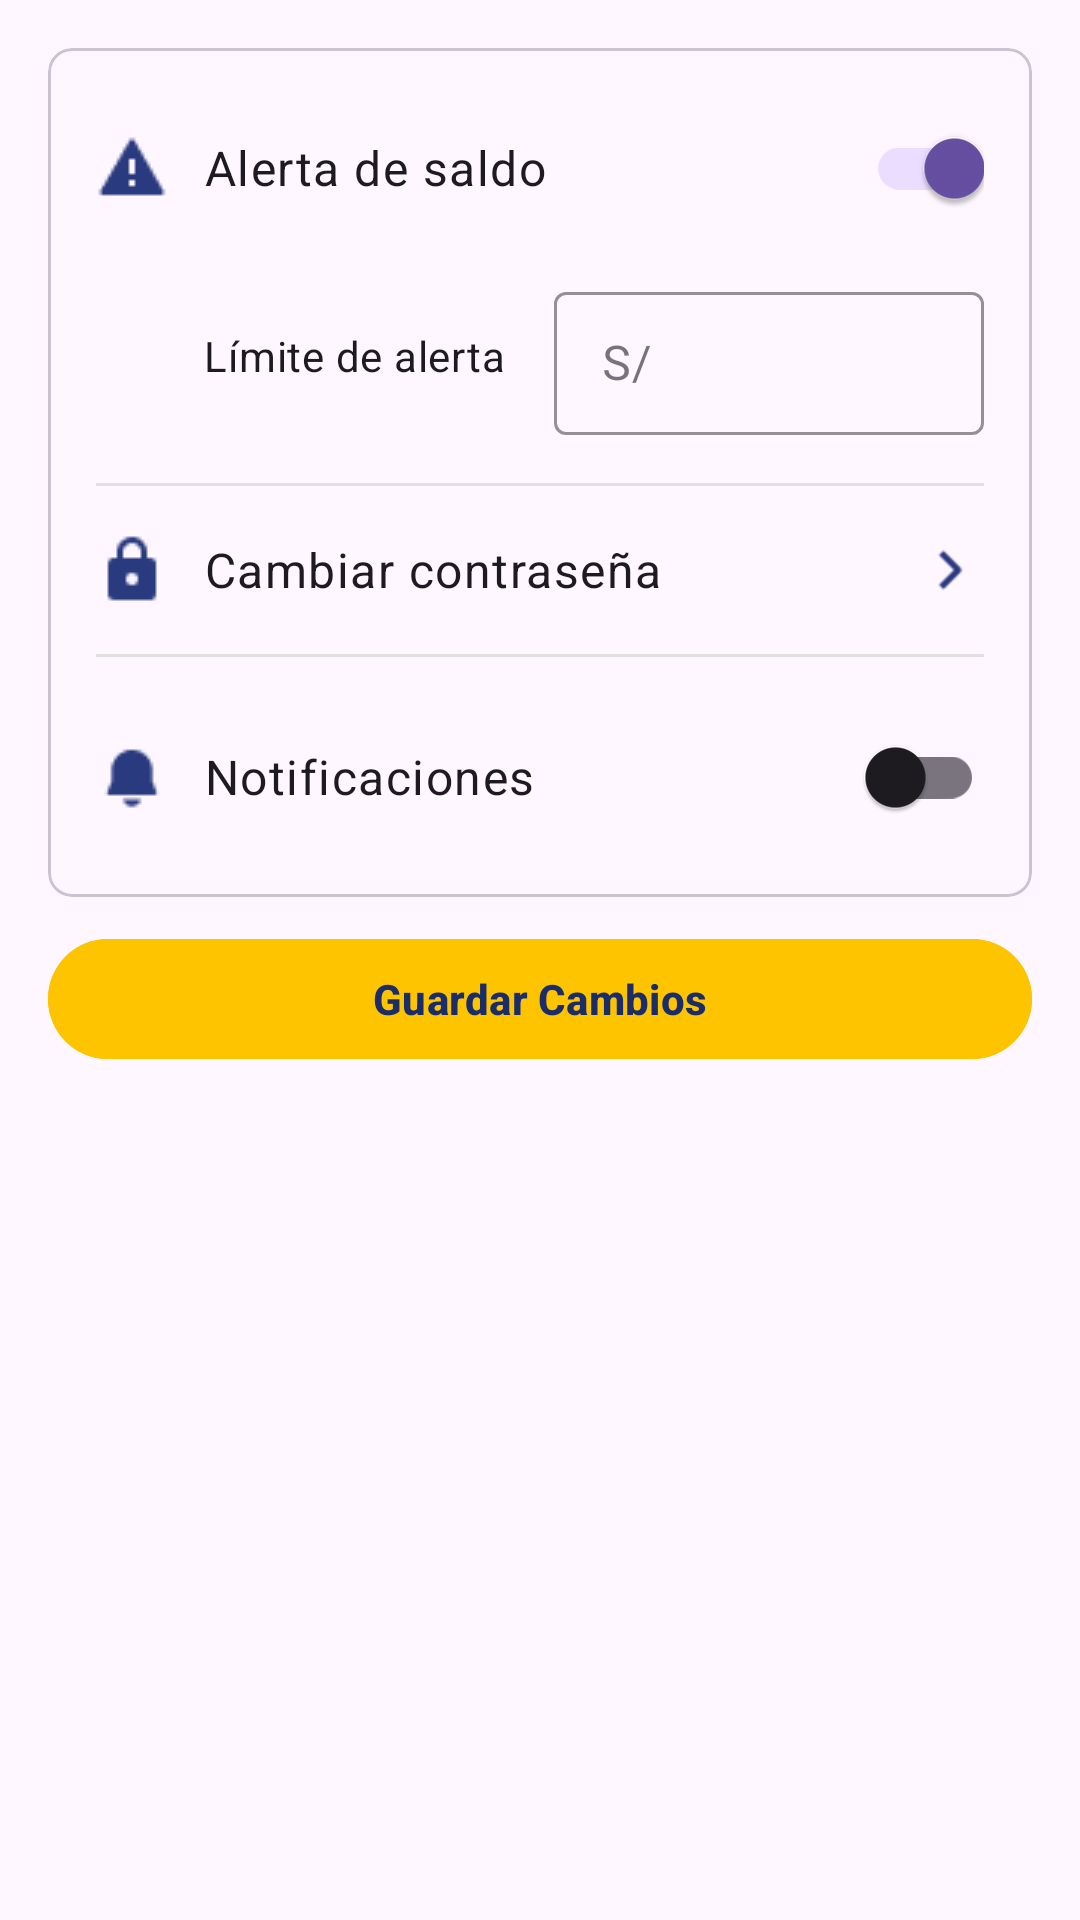

Point at icon controls on the screen. Image size 1080 x 1920, points as point (x, y).
next: point (951, 570)
notify: point (131, 778)
password: point (132, 568)
